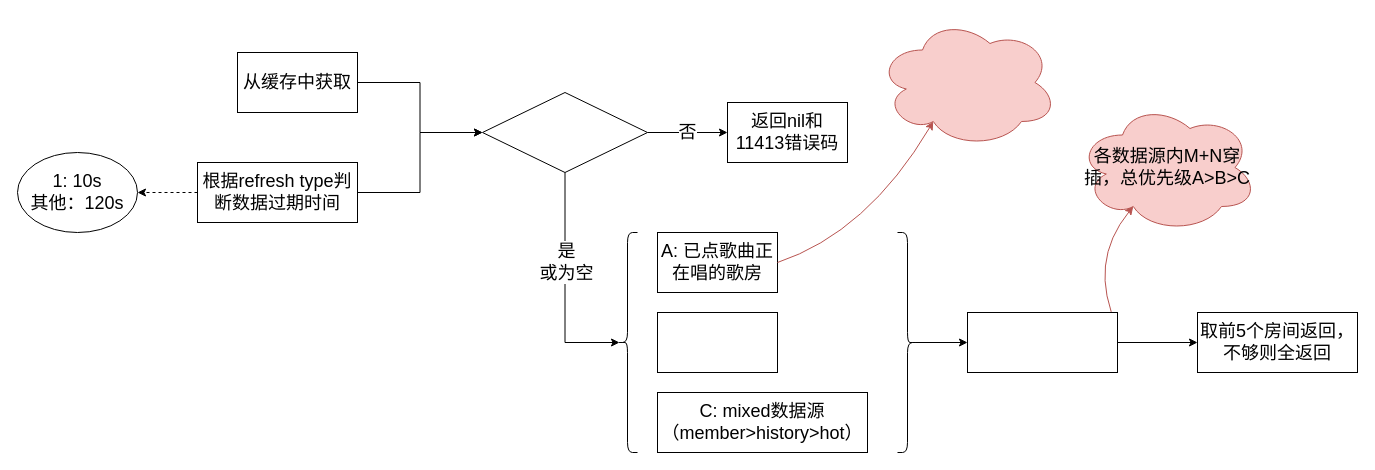
This 1375x470 diagram has some shape labels left out. The box of each missing label's shape, as (x1, y1, x2, y2) in pixels:
B: 关注的人正在唱的直播间: (656, 312, 778, 372)
各数据源内M歌房+N直播间排序: (966, 312, 1118, 372)
注意唱歌的人要和用户是同一个国家，否则会被过滤: (876, 16, 1058, 148)
缓存是否过期: (482, 92, 648, 172)
